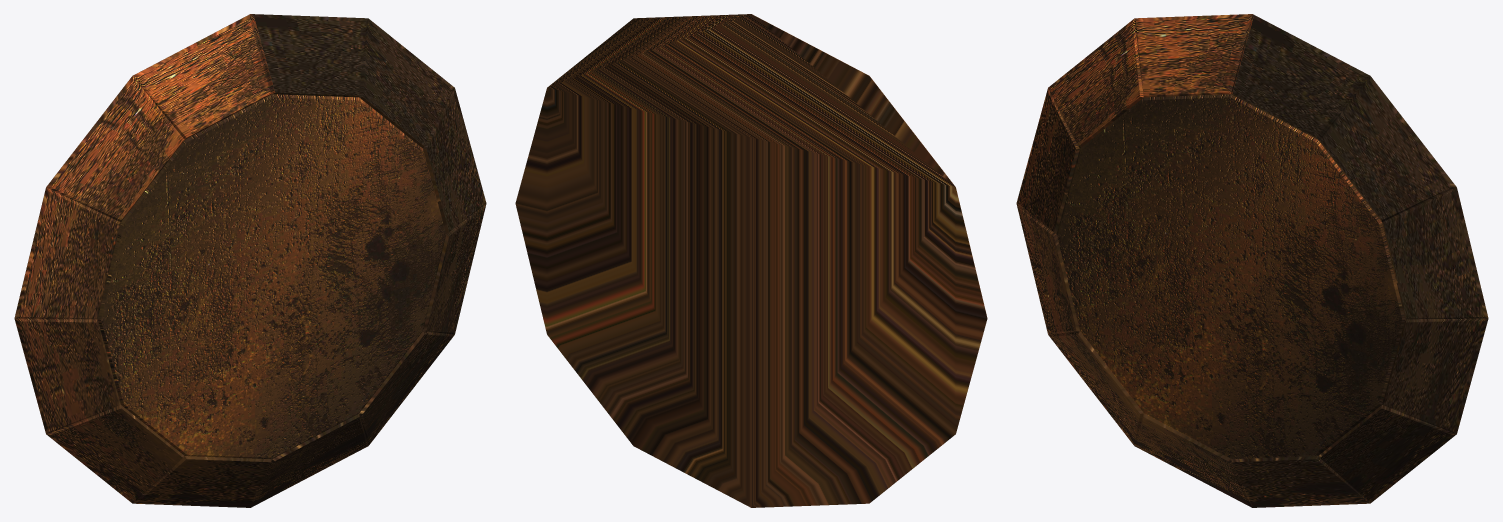
The model's file is Porada Dodekagono mirror.obj.
3 views of the same model, side by side, from view 1: azimuth 30°, elevation 25°; view 2: azimuth 150°, elevation 25°; view 3: azimuth 330°, elevation 25° (orthographic).
Parts seen in each view (by area): view 1: Cylinder001; view 2: Cylinder001; view 3: Cylinder001.
Boxes of the visible parts, x1,y1,x2,y2 form: Cylinder001: (14,14,486,507); Cylinder001: (515,14,987,507); Cylinder001: (1016,14,1488,507).
Size of the model in its own units: 1200 by 1200 by 100.
